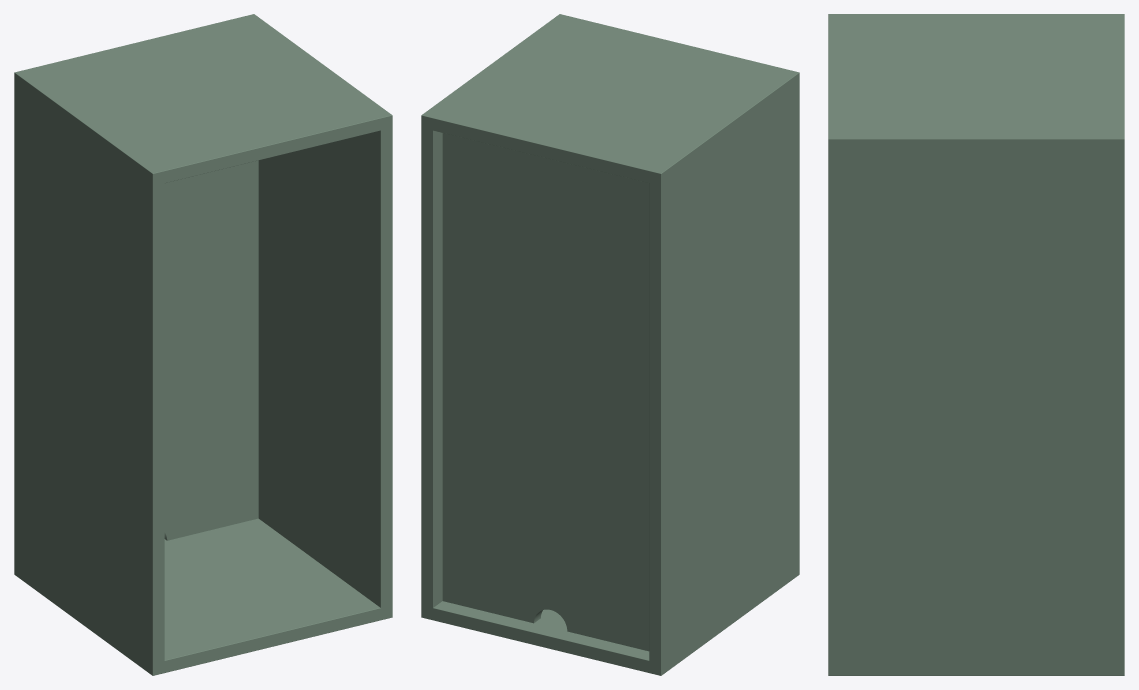
The model's file is MOD_1X2_A_B_AP_VA.glb.
The picture shows the model from 3 angles, left to right: view 1: azimuth 30°, elevation 25°; view 2: azimuth 150°, elevation 25°; view 3: azimuth 270°, elevation 25°; orthographic projection. The views are drawn at different scales.
Size of the model in its own units: 360 by 720 by 360.
